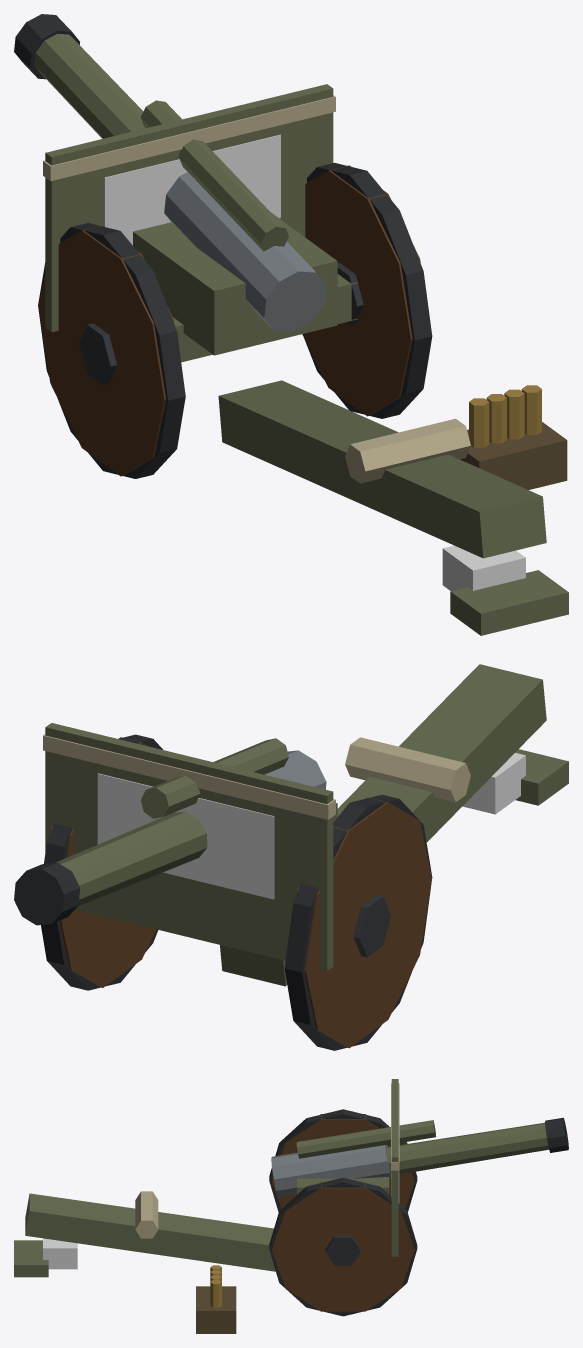
File: art_howitzer_c20.glb
3 renders of one model, top to bottom at view 1: azimuth 30°, elevation 25°; view 2: azimuth 150°, elevation 25°; view 3: azimuth 270°, elevation 25°, orthographic. The views are drawn at different scales.
Parts seen in each view (by area): view 1: art_howitzer_c20; view 2: art_howitzer_c20; view 3: art_howitzer_c20.
Boxes of the visible parts, x1,y1,x2,y2 form: art_howitzer_c20: (14,14,568,635); art_howitzer_c20: (14,664,568,1050); art_howitzer_c20: (14,1079,568,1333).
Size of the model in its own units: 1.96 by 1.54 by 4.8.
